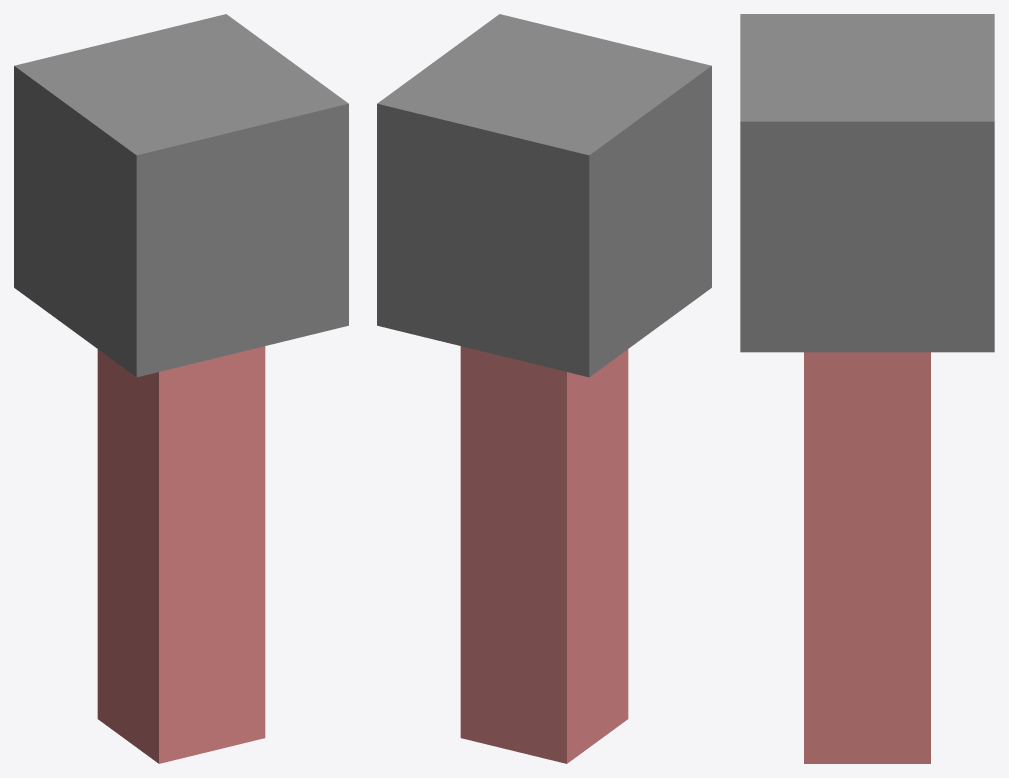
File: SM_Actuator_1sx1sx2s_Top.gltf
3 views of the same model, side by side, from view 1: azimuth 30°, elevation 25°; view 2: azimuth 150°, elevation 25°; view 3: azimuth 270°, elevation 25° (orthographic). The views are drawn at different scales.
Visible parts, largest first — view 1: SM_Actuator_1sx1sx2s_Top; view 2: SM_Actuator_1sx1sx2s_Top; view 3: SM_Actuator_1sx1sx2s_Top.
Part boxes in pixels (bbox=[...]): SM_Actuator_1sx1sx2s_Top: bbox=[14, 14, 348, 763]; SM_Actuator_1sx1sx2s_Top: bbox=[377, 14, 711, 763]; SM_Actuator_1sx1sx2s_Top: bbox=[740, 14, 994, 763].
Size of the model in its own units: 0.1 by 0.29 by 0.1.
